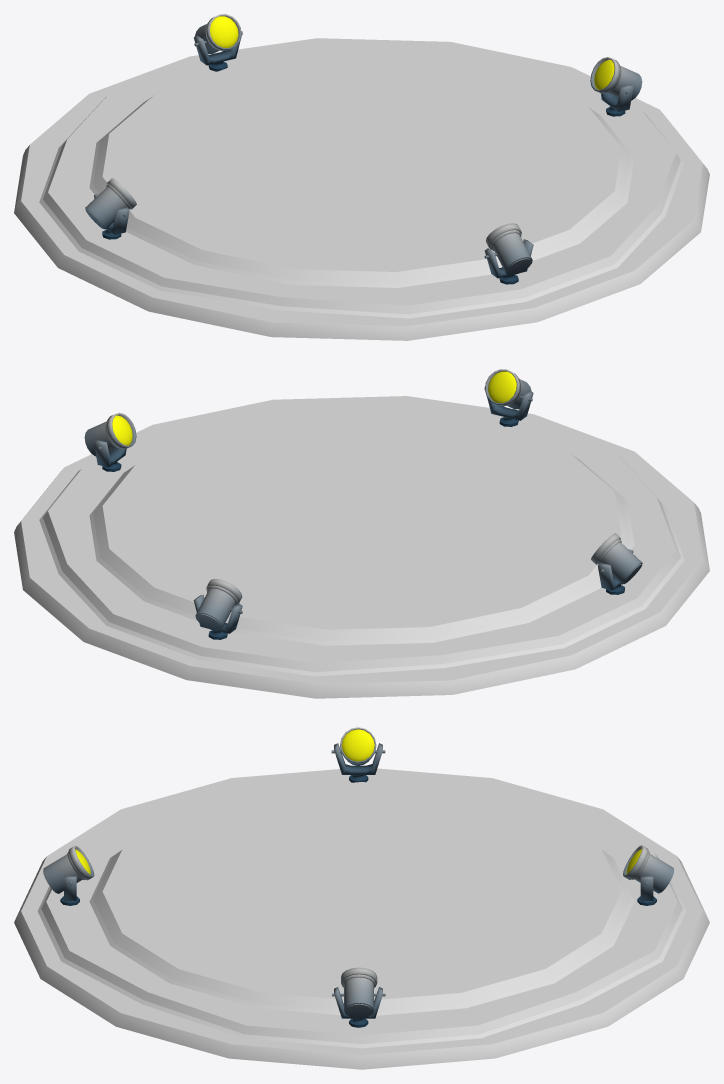
The model's file is Dance_Floor.fbx.
The picture shows the model from 3 angles, top to bottom: view 1: azimuth 30°, elevation 25°; view 2: azimuth 150°, elevation 25°; view 3: azimuth 270°, elevation 25°; orthographic projection.
Parts seen in each view (by area): view 1: Dance_Floor, Dance_Floor_Spotlight, Dance_Floor_Spotlight.001, Dance_Floor_Spotlight.002, Dance_Floor_Spotlight.003; view 2: Dance_Floor, Dance_Floor_Spotlight.002, Dance_Floor_Spotlight, Dance_Floor_Spotlight.001, Dance_Floor_Spotlight.003; view 3: Dance_Floor, Dance_Floor_Spotlight.001, Dance_Floor_Spotlight.003, Dance_Floor_Spotlight.002, Dance_Floor_Spotlight.
Boxes of the visible parts, left/top/right/bottom form: Dance_Floor: left=14, top=38, right=709, bottom=340; Dance_Floor_Spotlight: left=484, top=223, right=533, bottom=284; Dance_Floor_Spotlight.001: left=590, top=57, right=642, bottom=116; Dance_Floor_Spotlight.002: left=194, top=14, right=242, bottom=71; Dance_Floor_Spotlight.003: left=85, top=178, right=136, bottom=239; Dance_Floor: left=14, top=396, right=709, bottom=698; Dance_Floor_Spotlight.002: left=193, top=579, right=242, bottom=639; Dance_Floor_Spotlight: left=484, top=369, right=533, bottom=426; Dance_Floor_Spotlight.001: left=84, top=412, right=136, bottom=471; Dance_Floor_Spotlight.003: left=591, top=533, right=642, bottom=594; Dance_Floor: left=14, top=768, right=709, bottom=1069; Dance_Floor_Spotlight.001: left=332, top=967, right=385, bottom=1027; Dance_Floor_Spotlight.003: left=331, top=727, right=385, bottom=782; Dance_Floor_Spotlight.002: left=623, top=845, right=673, bottom=905; Dance_Floor_Spotlight: left=43, top=845, right=94, bottom=905.
Bounding box in the file's own units: 5.3 × 0.6334 × 5.3.
